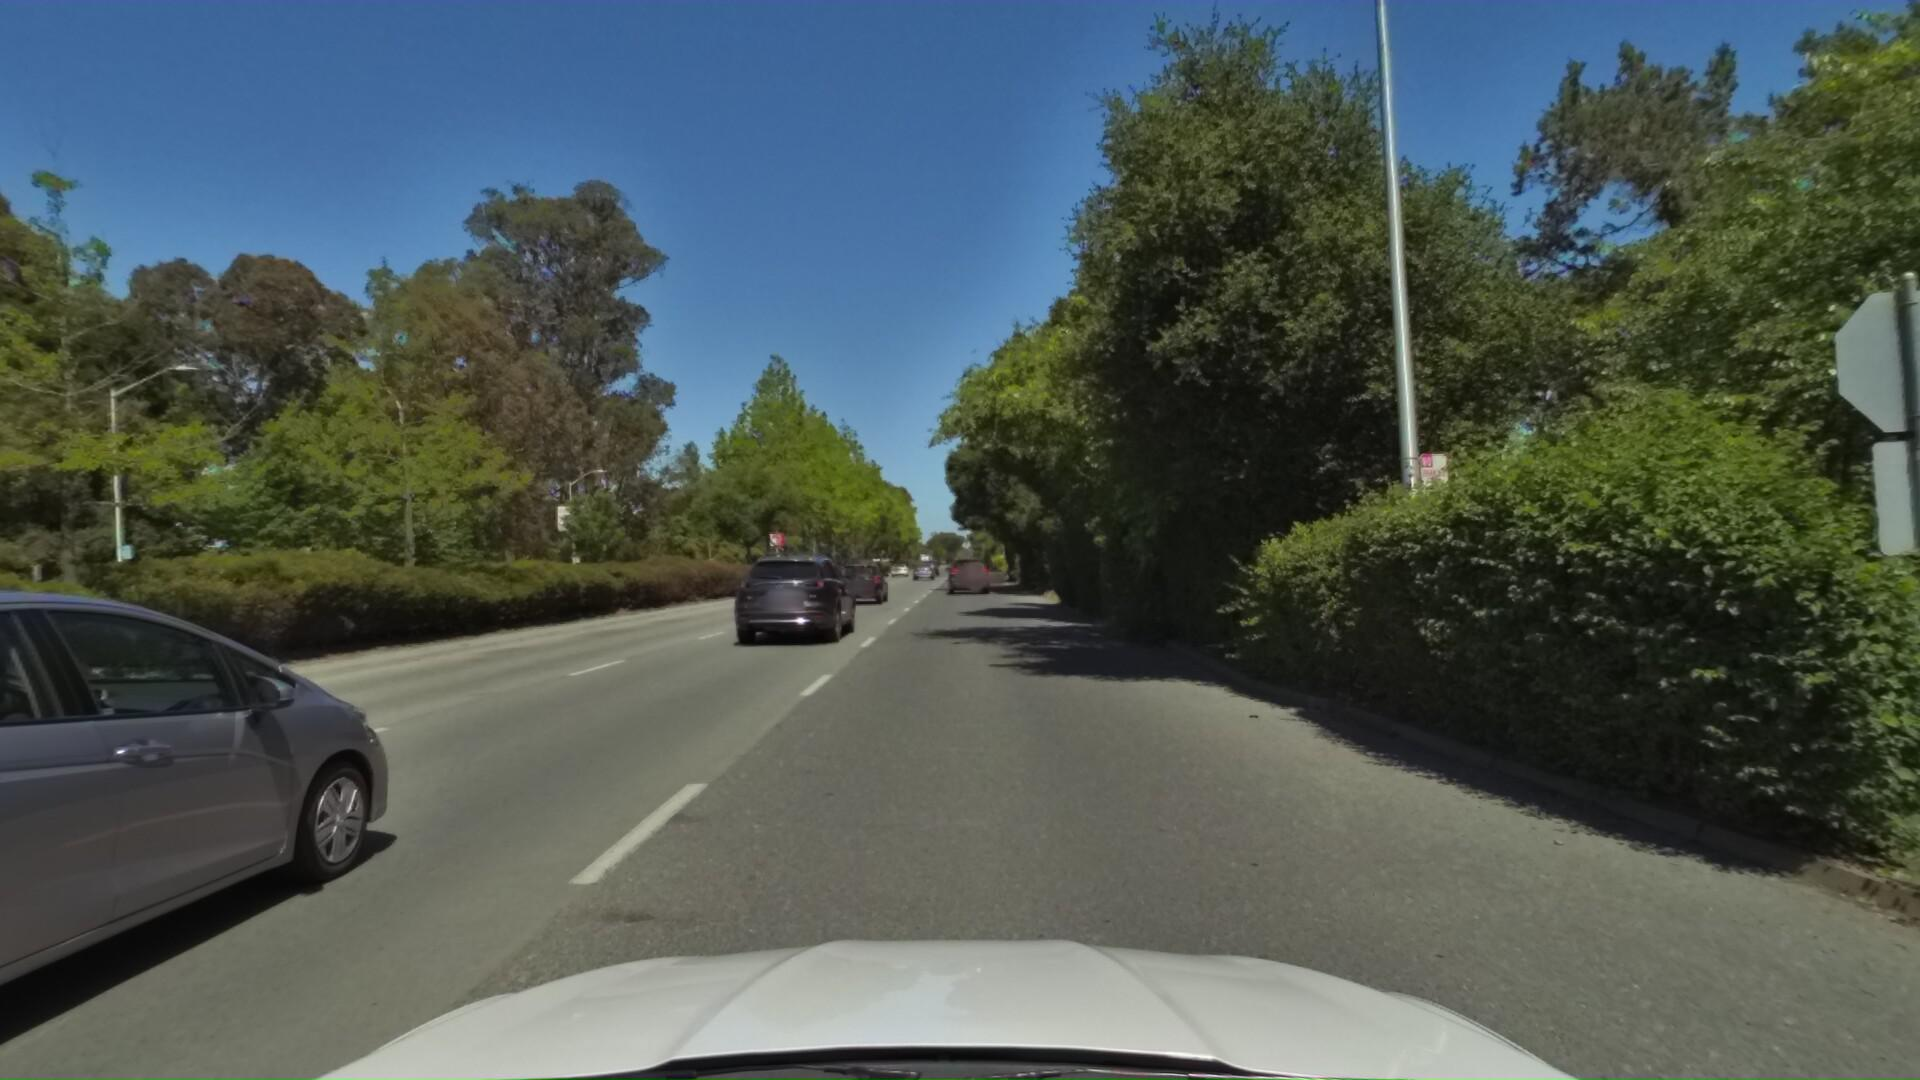car: (0, 567, 431, 1080), (1634, 568, 1920, 800), (709, 541, 860, 651), (824, 556, 891, 611), (943, 555, 992, 597), (905, 558, 935, 582)
